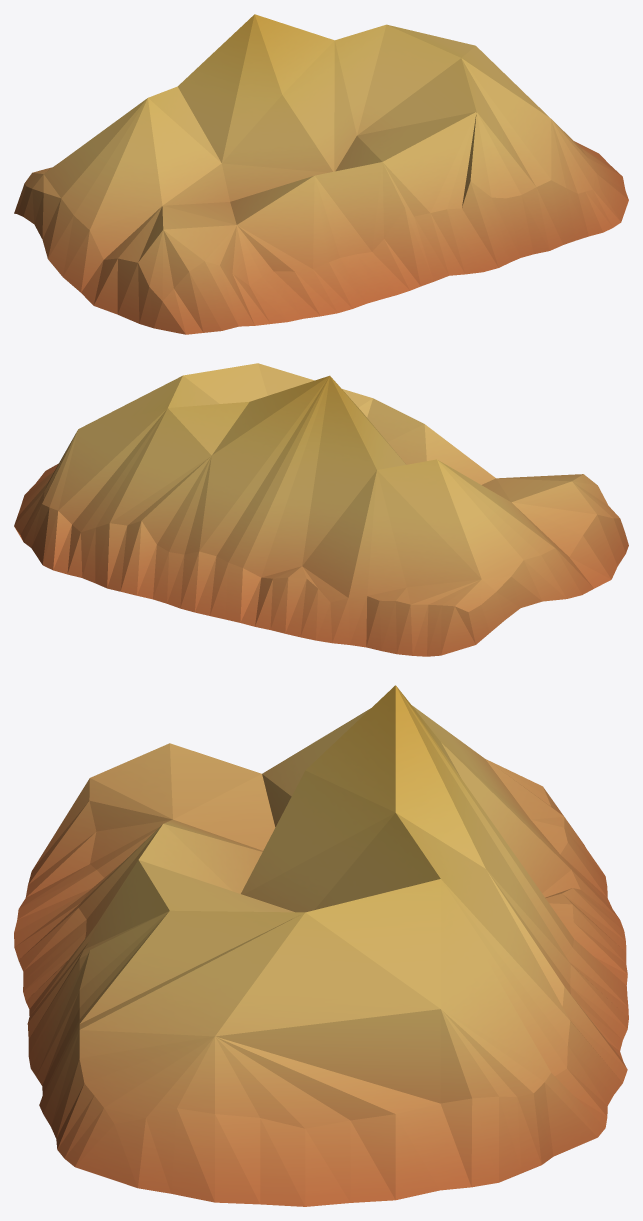
Rendered from Canyon_Mountains_006.FBX.
The picture shows the model from 3 angles, top to bottom: view 1: azimuth 30°, elevation 25°; view 2: azimuth 150°, elevation 25°; view 3: azimuth 270°, elevation 25°; orthographic projection. The views are drawn at different scales.
Visible parts, largest first — view 1: Canyon_Mountains_006; view 2: Canyon_Mountains_006; view 3: Canyon_Mountains_006.
Boxes of the visible parts, <box> form: Canyon_Mountains_006: <box>14,14,628,334</box>; Canyon_Mountains_006: <box>14,363,628,656</box>; Canyon_Mountains_006: <box>14,685,628,1206</box>.
Size of the model in its own units: 966 by 338 by 638.
Materials: 1 (1 with a texture image).
